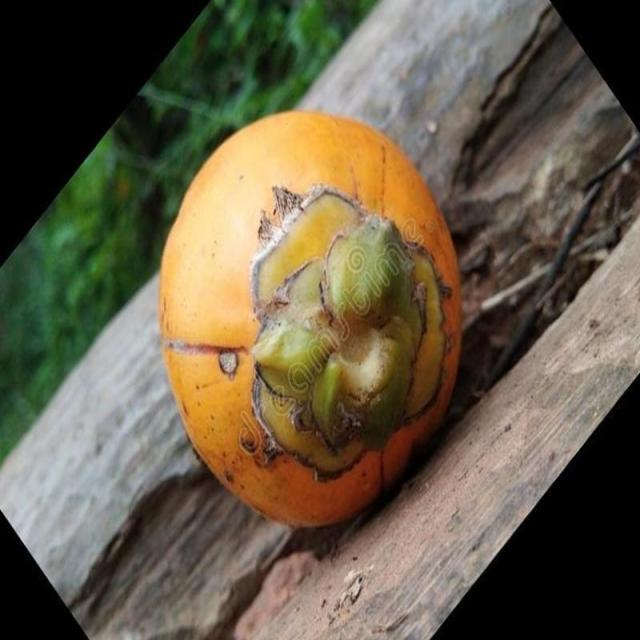good: (160, 111, 464, 532)
